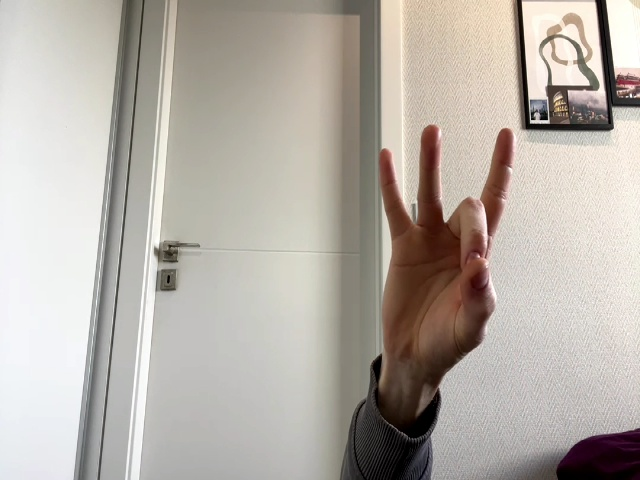G: (378, 125, 518, 361)
